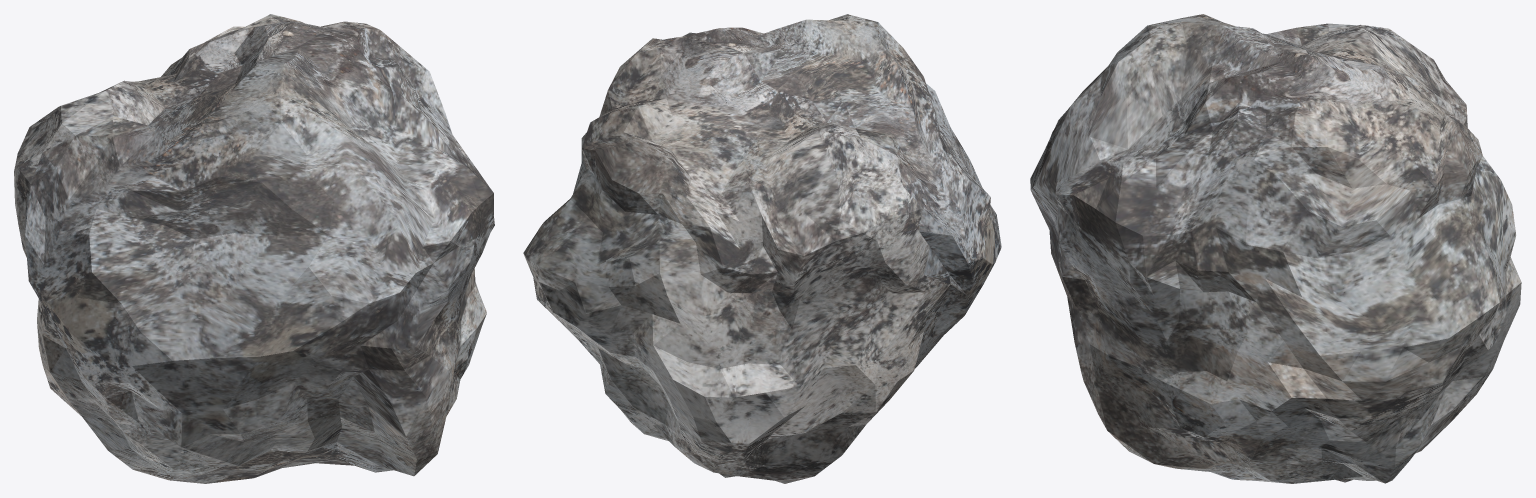
The model's file is Asteroid_Large_003.fbx.
3 views of the same model, side by side, from view 1: azimuth 30°, elevation 25°; view 2: azimuth 150°, elevation 25°; view 3: azimuth 270°, elevation 25° (orthographic). The views are drawn at different scales.
Visible parts, largest first — view 1: Asteroid_Large_003; view 2: Asteroid_Large_003; view 3: Asteroid_Large_003.
Boxes of the visible parts, x1,y1,x2,y2 form: Asteroid_Large_003: (14, 14, 494, 483); Asteroid_Large_003: (523, 14, 1001, 483); Asteroid_Large_003: (1030, 14, 1521, 483).
Bounding box in the file's own units: 43.98 × 43.89 × 44.17.
1 material, 1 textured.
